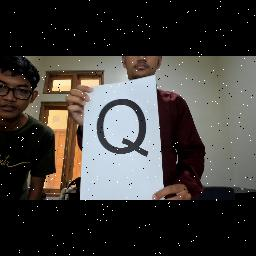q: (94, 97, 156, 159)
